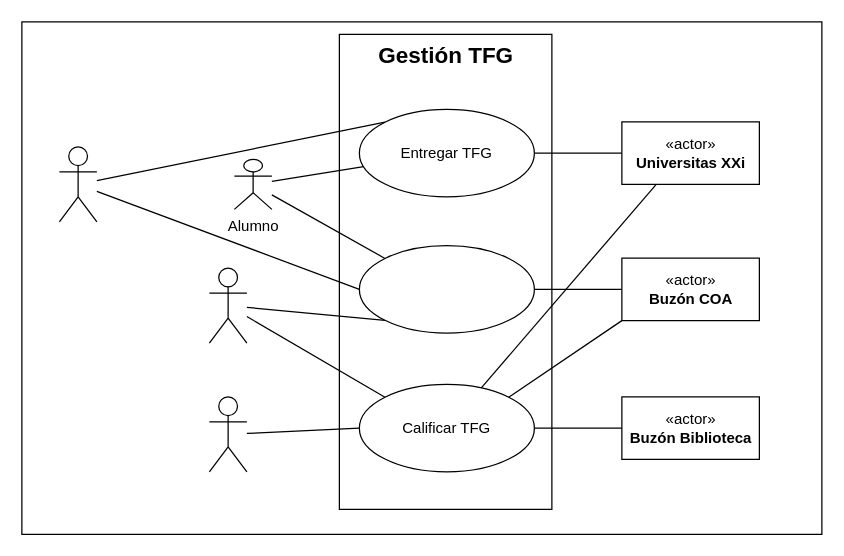
This 844x556 diagram has some shape labels left out. Here are the shapes that lost their labels. From the top down, the box of each, then its label:
(58, 146, 97, 222): Tutor
(208, 267, 247, 343): PAS
(358, 244, 534, 333): Solicitar TFG
(208, 396, 247, 472): Secretario
